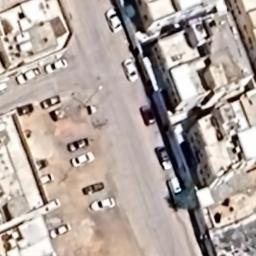SUV: (166, 175, 185, 205), (137, 104, 157, 128), (36, 173, 57, 185)
pickup: (15, 66, 42, 86)
sedan: (103, 6, 125, 34), (68, 152, 98, 170), (88, 196, 118, 214), (120, 58, 140, 84), (154, 144, 174, 170), (8, 102, 36, 118), (44, 57, 70, 74), (80, 180, 106, 197), (66, 136, 90, 154), (48, 222, 72, 240), (39, 93, 64, 110), (41, 200, 62, 214), (33, 158, 50, 170)
